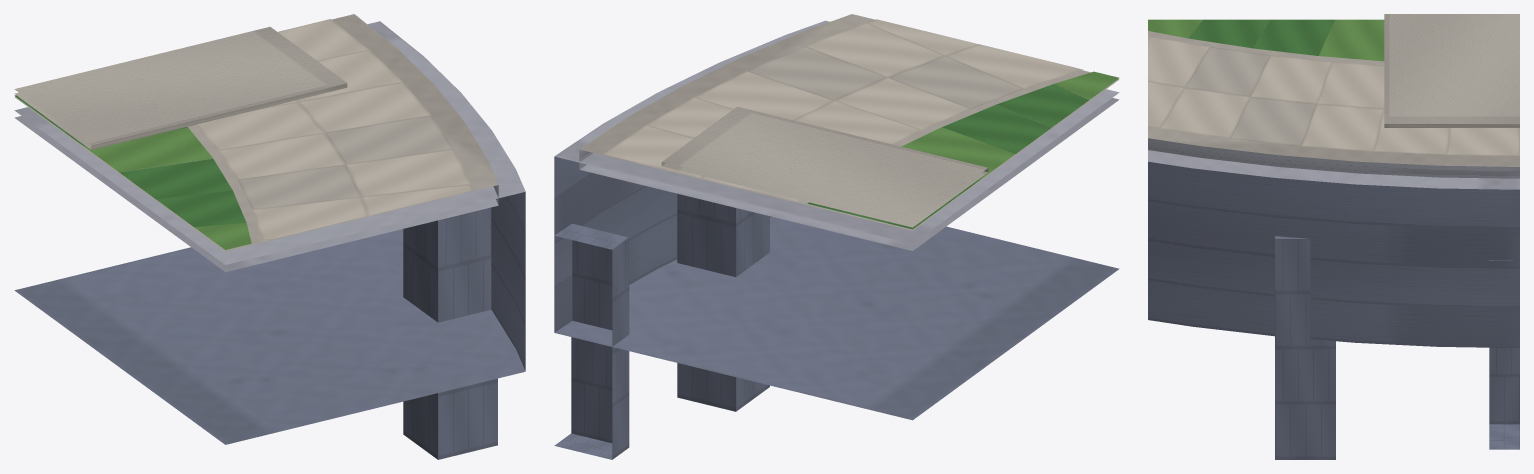
File: high_crown_fracture_60.obj
3 renders of one model, left to right at view 1: azimuth 30°, elevation 25°; view 2: azimuth 150°, elevation 25°; view 3: azimuth 270°, elevation 25°, orthographic. The views are drawn at different scales.
Parts seen in each view (by area): view 1: ArenaFracture60; view 2: ArenaFracture60; view 3: ArenaFracture60.
Part boxes in pixels (x1,y1,x2,y2): ArenaFracture60: [14, 14, 525, 459]; ArenaFracture60: [554, 14, 1119, 459]; ArenaFracture60: [1148, 14, 1519, 459].
Bounding box in the file's own units: 10 × 8.84 × 10.
6 materials, 6 textured.
